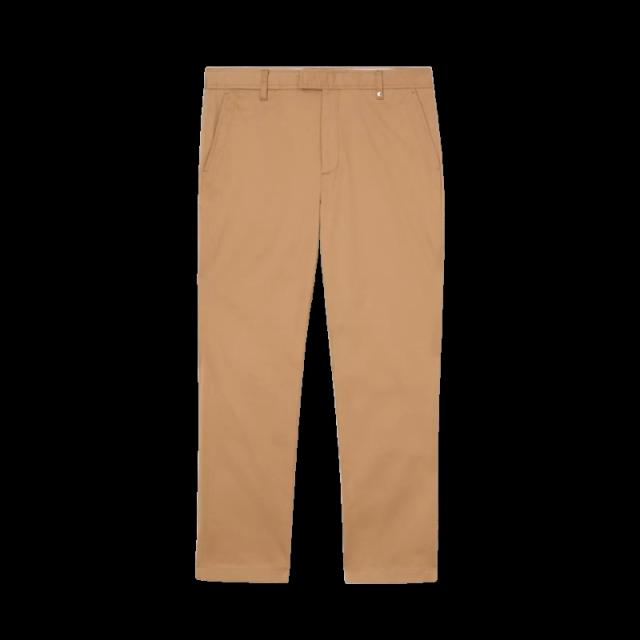long-pants: (194, 67, 445, 585)
